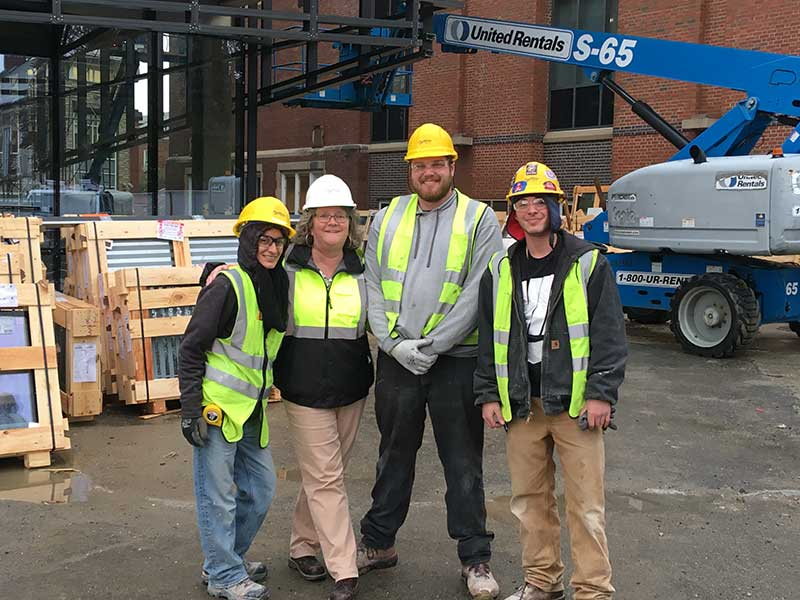Hard Hat: (396, 123, 461, 201), (298, 172, 358, 251), (505, 163, 564, 240), (235, 196, 296, 266)
Person: (371, 130, 491, 596), (499, 163, 612, 598), (177, 195, 290, 597), (290, 173, 367, 595)
Vest: (494, 195, 599, 424), (192, 222, 291, 444), (386, 151, 488, 348), (286, 202, 374, 338)
